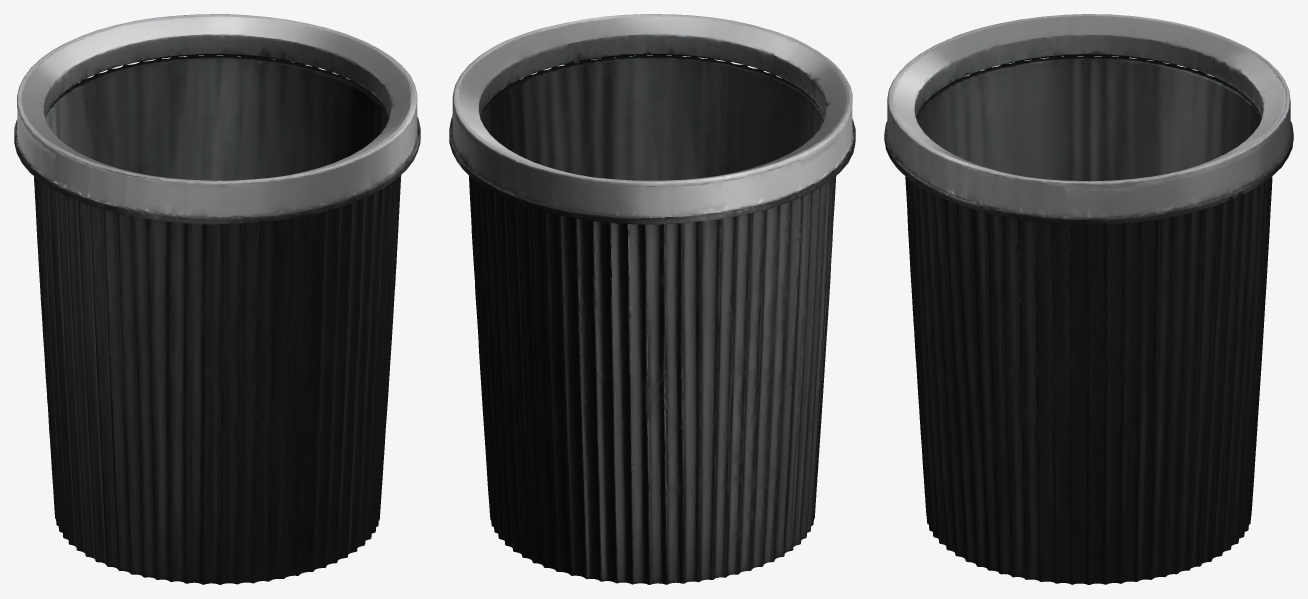
Rendered from TrashCan.fbx.
3 renders of one model, left to right at view 1: azimuth 30°, elevation 25°; view 2: azimuth 150°, elevation 25°; view 3: azimuth 270°, elevation 25°, orthographic.
Visible parts, largest first — view 1: tripo_node_a986365a; view 2: tripo_node_a986365a; view 3: tripo_node_a986365a.
Boxes of the visible parts, left/top/right/bottom form: tripo_node_a986365a: left=14, top=14, right=420, bottom=584; tripo_node_a986365a: left=449, top=14, right=855, bottom=584; tripo_node_a986365a: left=884, top=14, right=1293, bottom=584.
Bounding box in the file's own units: 86.61 × 86.8 × 97.96.
1 material, 1 textured.
